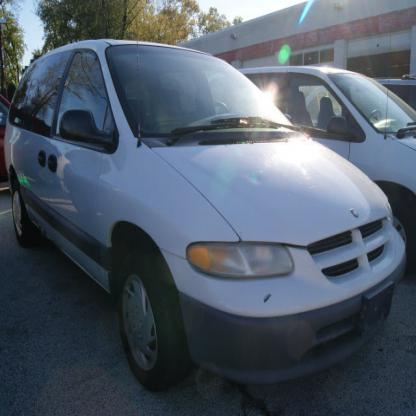Vehicle: (7, 41, 406, 391)
